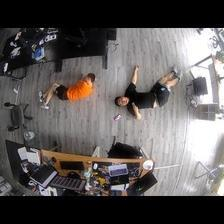fall: (116, 63, 182, 116), (36, 72, 97, 108)
